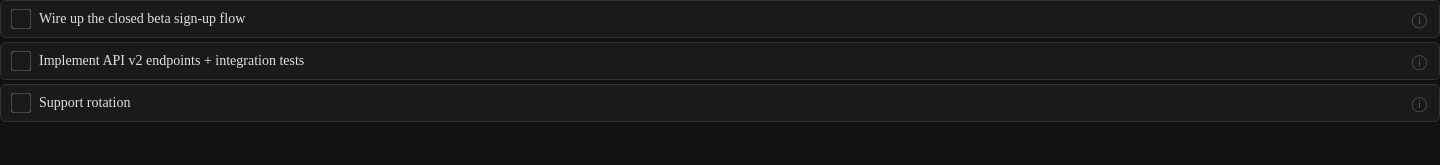
Test: GoalRow (via TodaysGoals) › distraction goal detail shows label text
Third goal: distraction (support rotation)
Step 1. Click the button named "toggle detail" → (1419, 103), box 1410,96 -> 1429,110
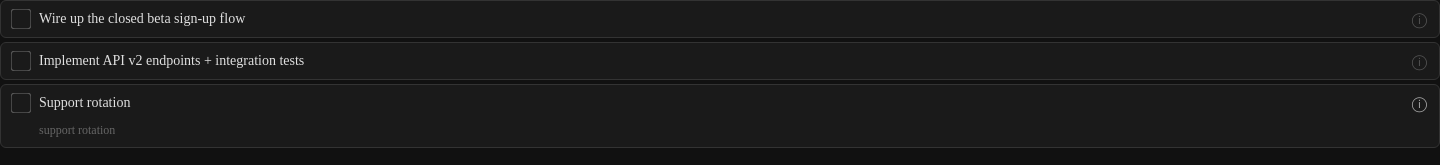
Check: the text with class "midday-goal-row__detail" reads "support rotation", box 39,123 -> 115,137
